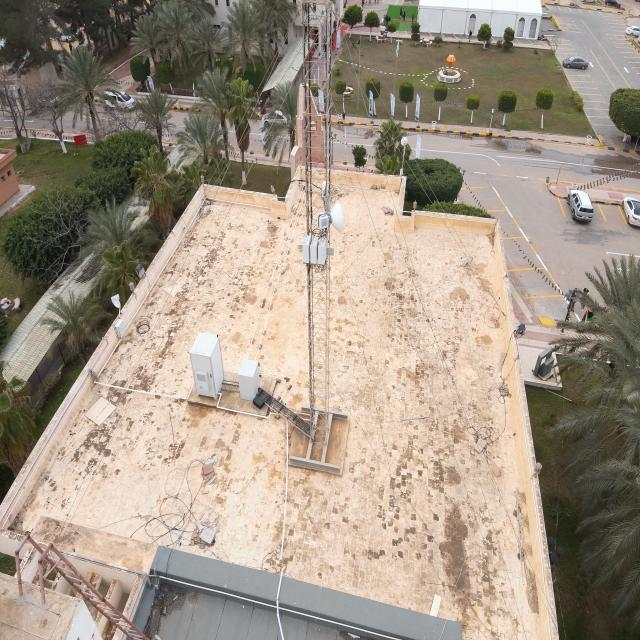microware-dish: (316, 200, 344, 234)
power-box: (302, 234, 327, 265)
